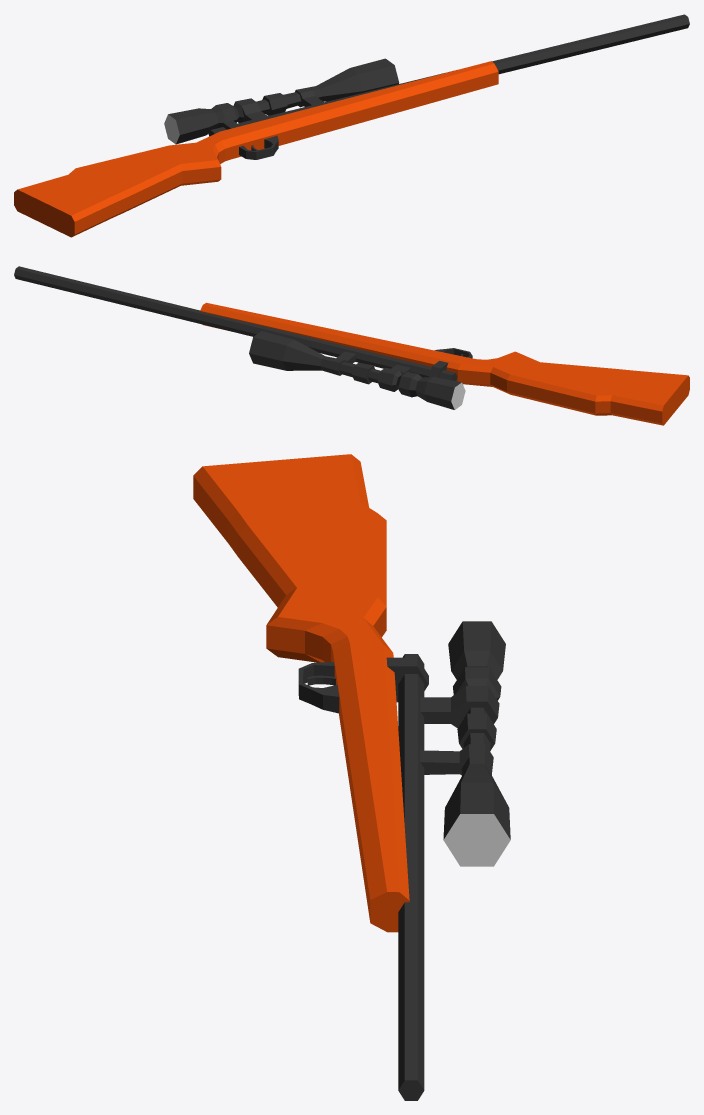
File: snipper-rifle-lowpoly__rifle_lowpoly_obj__rifle_lowpoly.glb
3 renders of one model, top to bottom at view 1: azimuth 30°, elevation 25°; view 2: azimuth 150°, elevation 25°; view 3: azimuth 270°, elevation 25°, orthographic. The views are drawn at different scales.
Parts seen in each view (by area): view 1: rifle_mesh; view 2: rifle_mesh; view 3: rifle_mesh.
Boxes of the visible parts, x1=… form: rifle_mesh: x1=14, y1=14, x2=689, y2=237; rifle_mesh: x1=14, y1=266, x2=689, y2=425; rifle_mesh: x1=193, y1=454, x2=510, y2=1100.
Size of the model in its own units: 22.06 by 0.8799 by 4.8.
